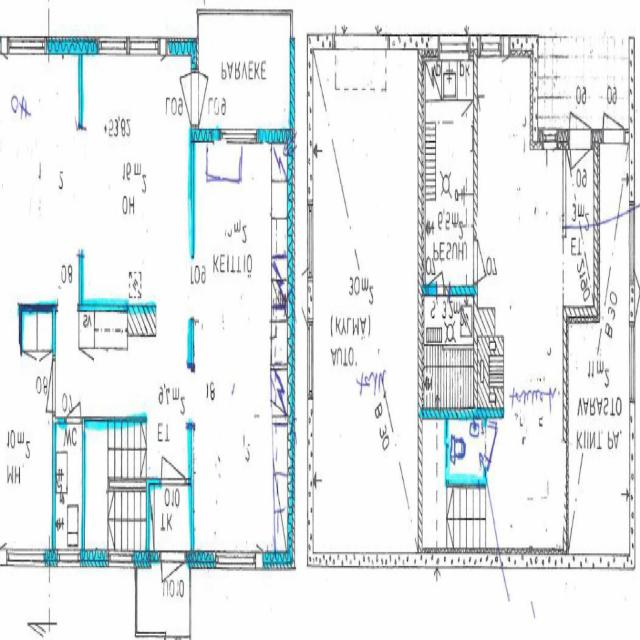door: (162, 548, 185, 628), (570, 128, 592, 204), (570, 73, 592, 149), (191, 72, 220, 126), (603, 73, 625, 143), (170, 72, 198, 126), (162, 420, 185, 484), (33, 361, 55, 412), (484, 424, 504, 469), (428, 242, 444, 296), (474, 240, 494, 282), (66, 379, 81, 423)
